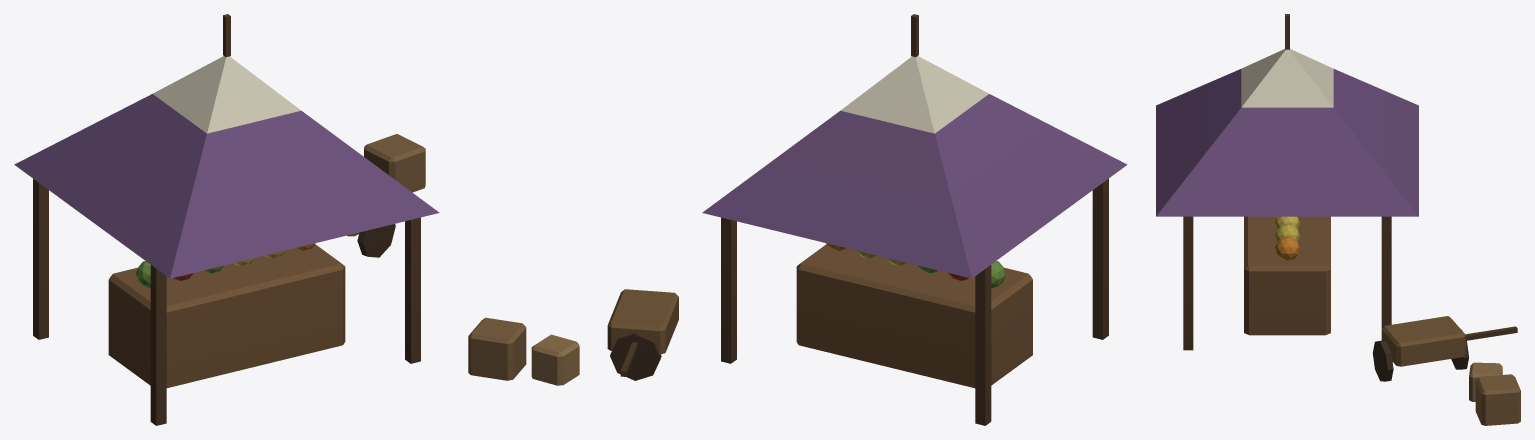
File: market.glb
The picture shows the model from 3 angles, left to right: view 1: azimuth 30°, elevation 25°; view 2: azimuth 150°, elevation 25°; view 3: azimuth 270°, elevation 25°; orthographic projection. The views are drawn at different scales.
Visible parts, largest first — view 1: market_model; view 2: market_model; view 3: market_model.
Boxes of the visible parts, x1=… form: market_model: x1=14, y1=14, x2=439, y2=425; market_model: x1=468, y1=14, x2=1127, y2=425; market_model: x1=1156, y1=14, x2=1520, y2=425.
Bounding box in the file's own units: 0.7088 × 0.5 × 0.5888.
